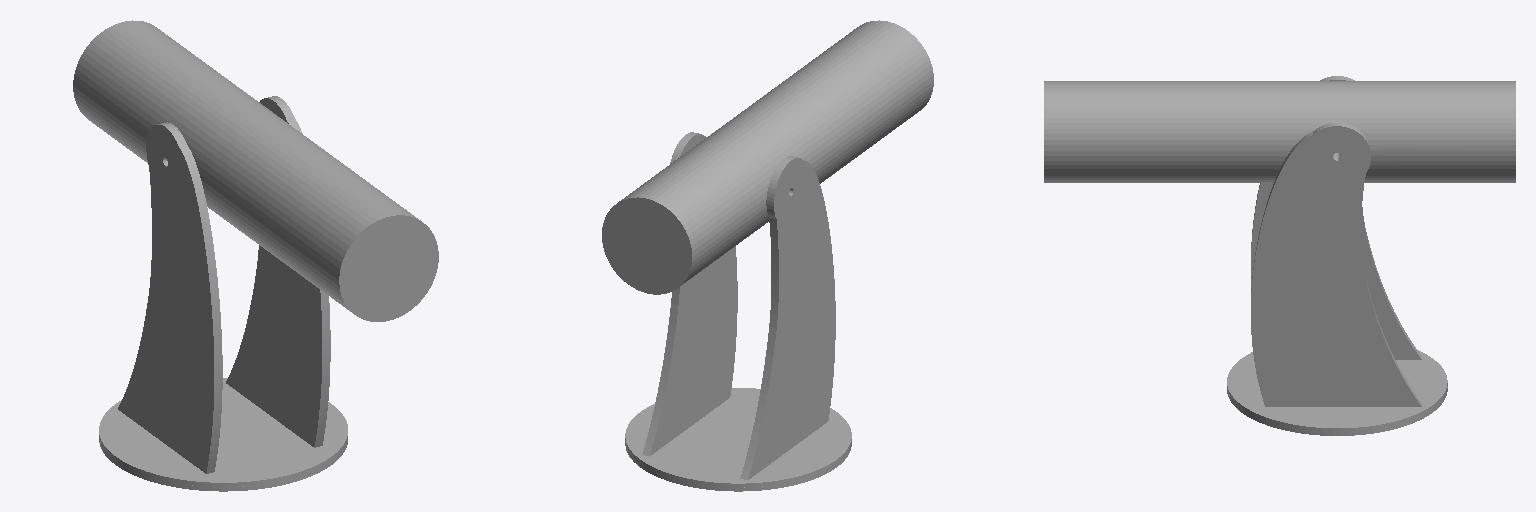
URDF robot description (model_teleskopu_skywatcher_8):
<?xml version="1.0" ?><robot name="model_teleskopu_skywatcher_8"><material name="silver"><color rgba="0.700 0.700 0.700 1.000"/></material><transmission name="Revolute 2_tran"><type>transmission_interface/SimpleTransmission</type><joint name="Revolute 2"><hardwareInterface>hardware_interface/EffortJointInterface</hardwareInterface></joint><actuator name="Revolute 2_actr"><hardwareInterface>hardware_interface/EffortJointInterface</hardwareInterface><mechanicalReduction>1</mechanicalReduction></actuator></transmission><transmission name="Revolute 3_tran"><type>transmission_interface/SimpleTransmission</type><joint name="Revolute 3"><hardwareInterface>hardware_interface/EffortJointInterface</hardwareInterface></joint><actuator name="Revolute 3_actr"><hardwareInterface>hardware_interface/EffortJointInterface</hardwareInterface><mechanicalReduction>1</mechanicalReduction></actuator></transmission><gazebo><plugin filename="libgazebo_ros_control.so" name="control"/></gazebo><gazebo reference="base_link"><material>Gazebo/Silver</material><mu1>0.2</mu1><mu2>0.2</mu2><selfCollide>true</selfCollide><gravity>true</gravity></gazebo><gazebo reference="link_2_1"><material>Gazebo/Silver</material><mu1>0.2</mu1><mu2>0.2</mu2><selfCollide>true</selfCollide></gazebo><gazebo reference="link_1_1"><material>Gazebo/Silver</material><mu1>0.2</mu1><mu2>0.2</mu2><selfCollide>true</selfCollide></gazebo><link name="base_link"><inertial><origin rpy="0 0 0" xyz="0.0 -3.4260491716698393e-17 0.005"/><mass value="16.671175575539596"/><inertia ixx="0.281882" ixy="0.0" ixz="-0.0" iyy="0.281882" iyz="-0.0" izz="0.563486"/></inertial><visual><origin rpy="0 0 0" xyz="0 0 0"/><geometry><mesh filename="package://model_teleskopu_skywatcher_8_description/meshes/base_link.stl" scale="0.001 0.001 0.001"/></geometry><material name="silver"/></visual><collision><origin rpy="0 0 0" xyz="0 0 0"/><geometry><mesh filename="package://model_teleskopu_skywatcher_8_description/meshes/base_link.stl" scale="0.001 0.001 0.001"/></geometry></collision></link><link name="link_2_1"><inertial><origin rpy="0 0 0" xyz="0.11238822172500042 -0.13374572247818428 0.0464918849526732"/><mass value="393.59793579966487"/><inertia ixx="41.764352" ixy="-2.006245" ixz="0.735879" iyy="7.56931" iyz="12.585569" izz="37.262145"/></inertial><visual><origin rpy="0 0 0" xyz="0.119795 -0.007004 -0.67"/><geometry><mesh filename="package://model_teleskopu_skywatcher_8_description/meshes/link_2_1.stl" scale="0.001 0.001 0.001"/></geometry><material name="silver"/></visual><collision><origin rpy="0 0 0" xyz="0.119795 -0.007004 -0.67"/><geometry><mesh filename="package://model_teleskopu_skywatcher_8_description/meshes/link_2_1.stl" scale="0.001 0.001 0.001"/></geometry></collision></link><link name="link_1_1"><inertial><origin rpy="0 0 0" xyz="-0.001871869681063423 -0.03201414969582831 0.2537225058105447"/><mass value="76.07572361819237"/><inertia ixx="4.480154" ixy="0.032501" ixz="0.014977" iyy="5.034105" iyz="0.256152" izz="2.017568"/></inertial><visual><origin rpy="0 0 0" xyz="-0.0 -0.0 -0.01"/><geometry><mesh filename="package://model_teleskopu_skywatcher_8_description/meshes/link_1_1.stl" scale="0.001 0.001 0.001"/></geometry><material name="silver"/></visual><collision><origin rpy="0 0 0" xyz="-0.0 -0.0 -0.01"/><geometry><mesh filename="package://model_teleskopu_skywatcher_8_description/meshes/link_1_1.stl" scale="0.001 0.001 0.001"/></geometry></collision></link><joint name="Revolute 2" type="revolute"><origin rpy="0 0 0" xyz="-0.119795 0.007004 0.66"/><parent link="link_1_1"/><child link="link_2_1"/><axis xyz="-0.998295 0.05837 0.0"/><limit effort="100" lower="-0.523599" upper="1.047198" velocity="100"/></joint><joint name="Revolute 3" type="continuous"><origin rpy="0 0 0" xyz="0.0 0.0 0.01"/><parent link="base_link"/><child link="link_1_1"/><axis xyz="0.0 0.0 1.0"/></joint></robot>

--- Render facts (derived) ---
The picture shows the robot from 3 angles, left to right: view 1: azimuth 30°, elevation 25°; view 2: azimuth 150°, elevation 25°; view 3: azimuth 270°, elevation 25°; orthographic projection.
Robot: model_teleskopu_skywatcher_8 — 3 links, 2 joints (1 revolute, 1 continuous); root link base_link; default pose: all joints at 0.
Visible links, largest first — view 1: link_1_1, link_2_1, base_link; view 2: link_1_1, link_2_1, base_link; view 3: link_2_1, link_1_1, base_link.
Link boxes in pixels (box(x1,y1,x2,y2)): link_1_1: box(99, 96, 347, 486); link_2_1: box(73, 20, 438, 321); base_link: box(99, 439, 347, 491); link_1_1: box(625, 132, 851, 487); link_2_1: box(602, 20, 933, 294); base_link: box(625, 442, 851, 491); link_2_1: box(1044, 81, 1515, 182); link_1_1: box(1227, 76, 1447, 431); base_link: box(1227, 387, 1447, 435).
Bounding box of the posed robot: 0.52 × 1.11 × 0.79 m (x, y, z).
Meshes: 3 distinct files referenced, 3 mesh visuals loaded (3 binary STL).
